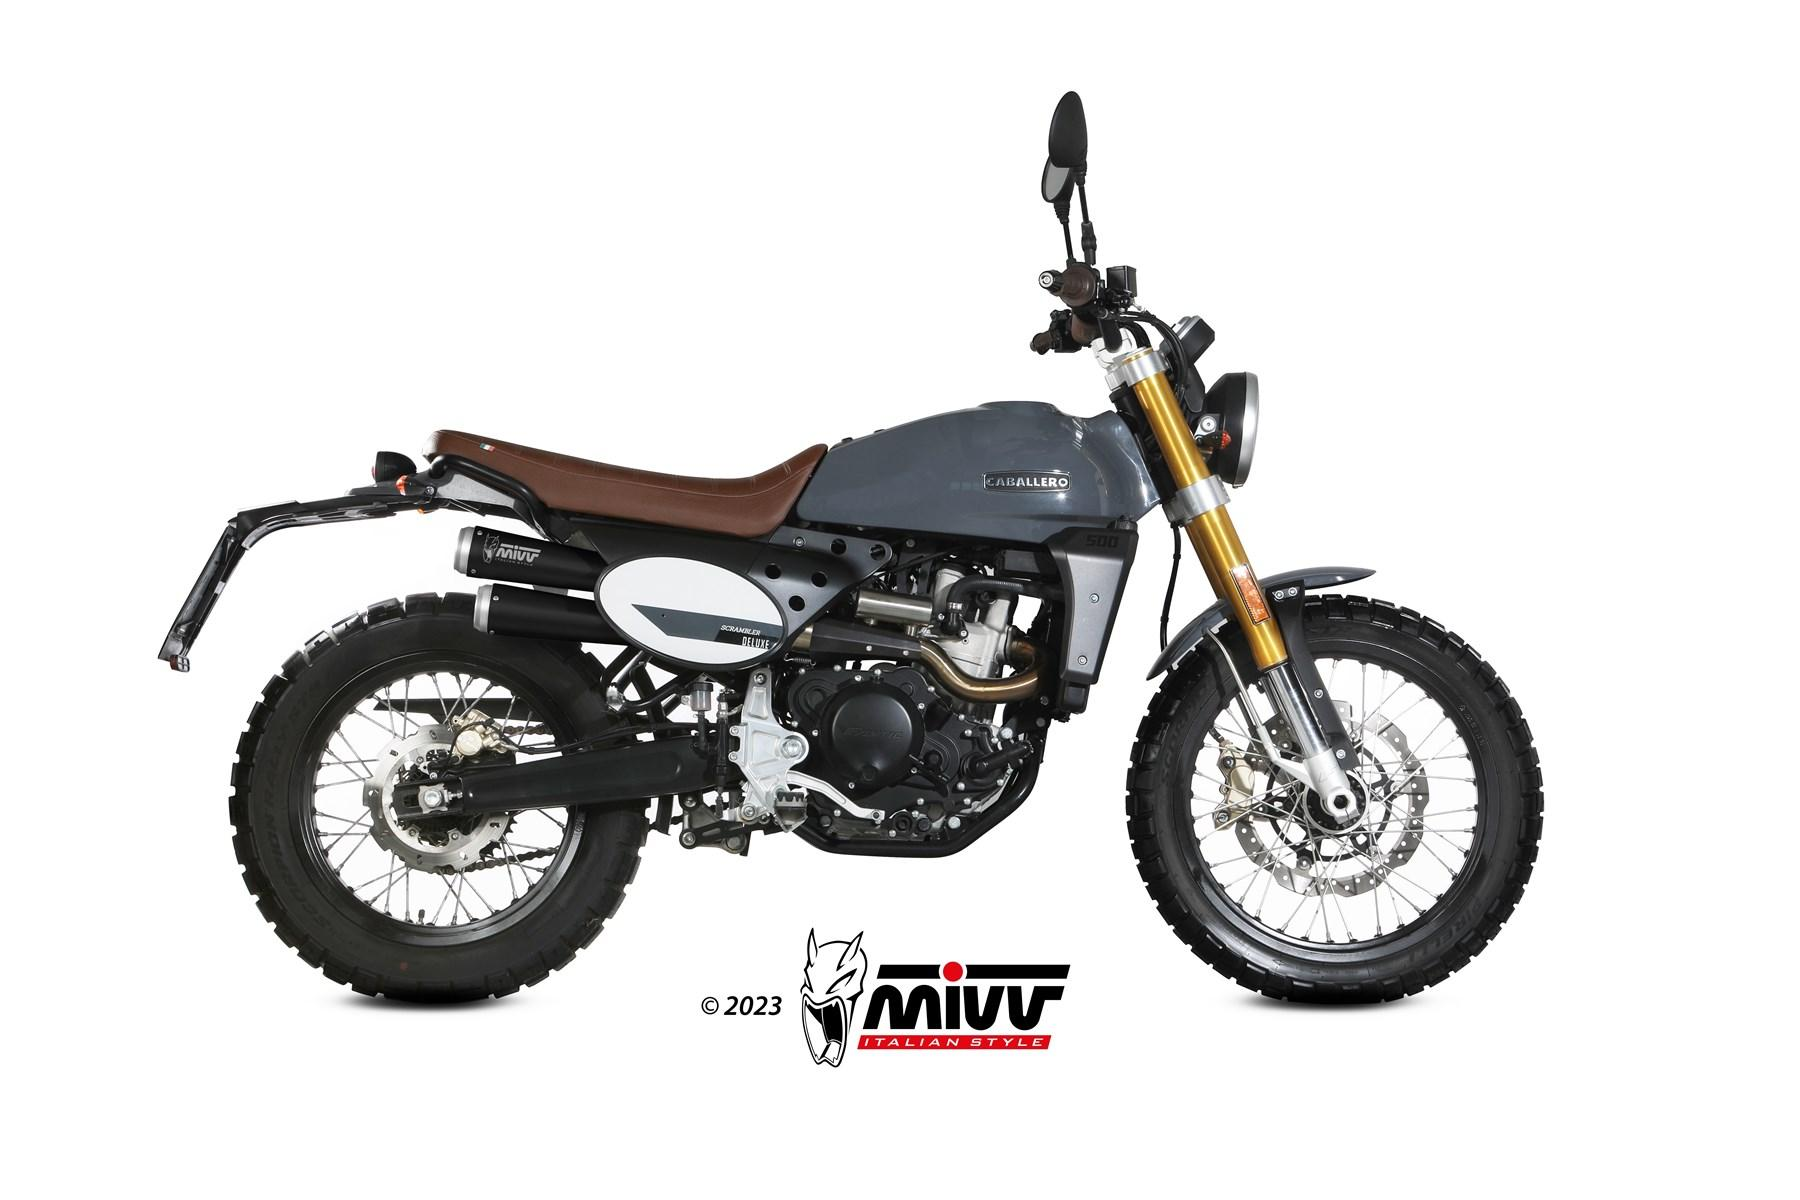engine-chasis: (727, 656, 1070, 858), (746, 505, 1063, 678)
exhaust: (782, 587, 1058, 704), (453, 525, 608, 593), (473, 583, 629, 646)
frontside: (1104, 346, 1377, 825), (1027, 516, 1140, 715)
handlebar: (1029, 90, 1215, 403)
motorbike: (158, 88, 1544, 1003)
rearside: (157, 451, 789, 857)
seat: (421, 429, 829, 540)
tank: (796, 400, 1162, 545)
watermark: (695, 923, 1075, 1075)
wheel: (228, 592, 652, 1002), (1125, 593, 1546, 1004), (500, 722, 699, 755), (430, 845, 560, 877), (1160, 524, 1181, 652), (504, 722, 553, 735)
